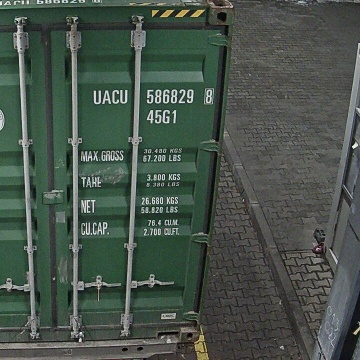serial_id: (94, 89, 212, 103)
